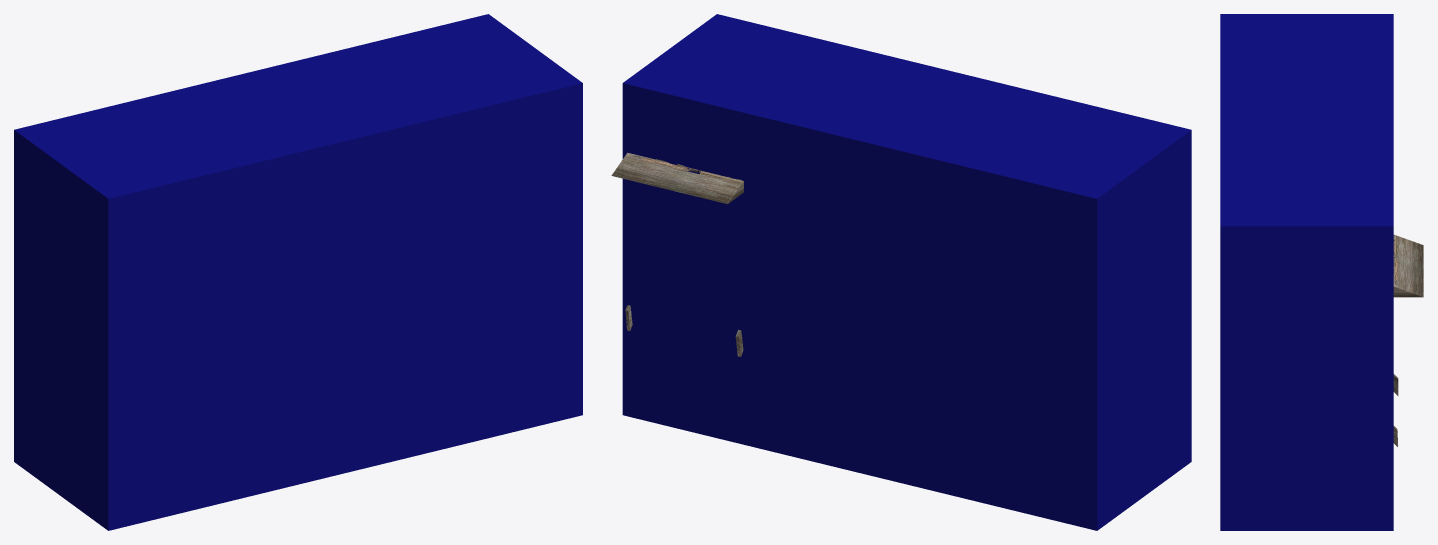
Rendered from bridge_unbk.DAE.
3 views of the same model, side by side, from view 1: azimuth 30°, elevation 25°; view 2: azimuth 150°, elevation 25°; view 3: azimuth 270°, elevation 25° (orthographic). The views are drawn at different scales.
Visible parts, largest first — view 1: bounds; view 2: bounds, col-30; view 3: bounds, col-30.
Part boxes in pixels (bbox=[...]): bounds: bbox=[14, 14, 582, 530]; bounds: bbox=[622, 14, 1191, 530]; col-30: bbox=[611, 152, 743, 204]; bounds: bbox=[1220, 14, 1393, 530]; col-30: bbox=[1393, 234, 1423, 297].
Size of the model in its own units: 21.7 by 8.77 by 14.51.
